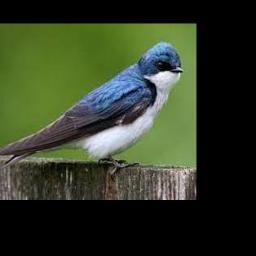Swallow: (0, 40, 184, 170)
